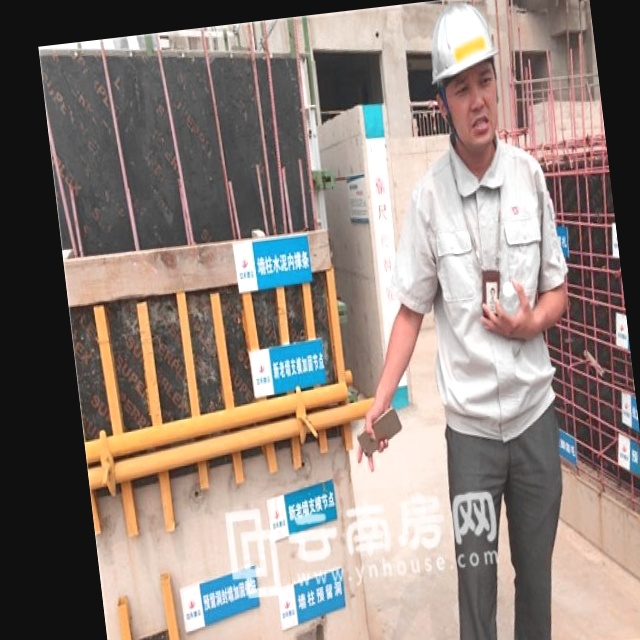Con_Casco: (427, 4, 506, 135)
Sin_Chaleco: (415, 151, 570, 441)
